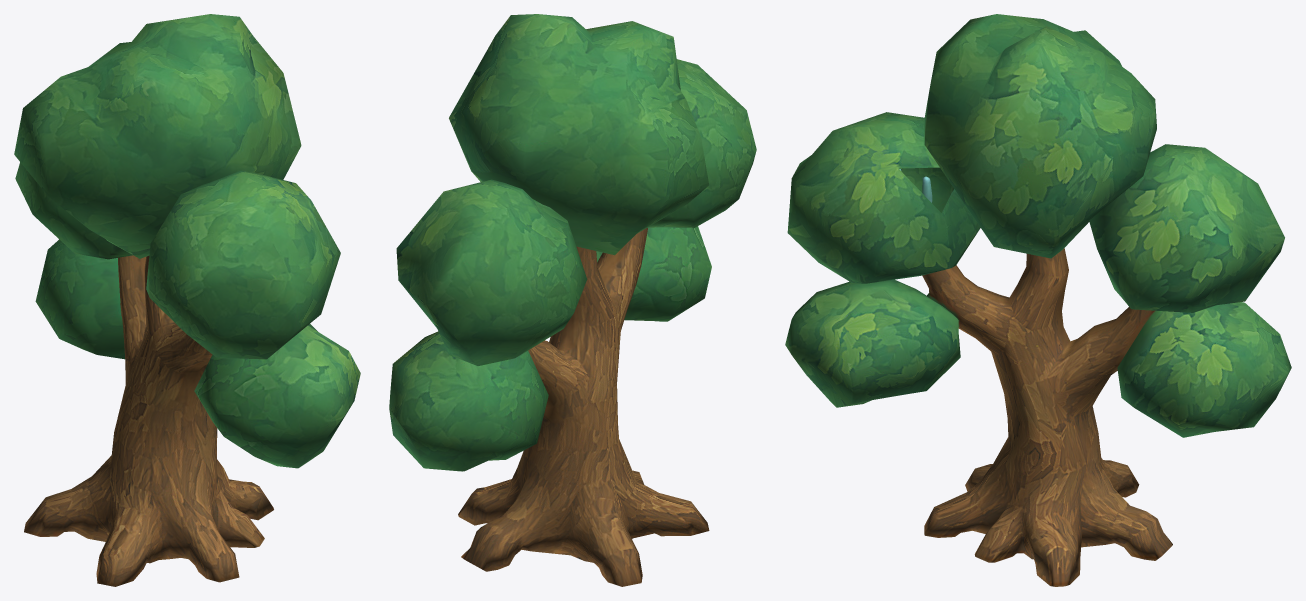
File: P90_corner_tree_Runtime_1k.glb
3 renders of one model, left to right at view 1: azimuth 30°, elevation 25°; view 2: azimuth 150°, elevation 25°; view 3: azimuth 270°, elevation 25°, orthographic.
Visible parts, largest first — view 1: tripo_node_ce09a1a5; view 2: tripo_node_ce09a1a5; view 3: tripo_node_ce09a1a5.
Boxes of the visible parts, <box> form: tripo_node_ce09a1a5: <box>14,14,360,586</box>; tripo_node_ce09a1a5: <box>389,14,756,586</box>; tripo_node_ce09a1a5: <box>785,14,1291,586</box>.
Bounding box in the file's own units: 2.71 × 5.6 × 5.05.
Materials: 1 (1 with a texture image).
